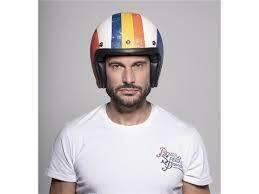helmet: (89, 12, 164, 108)
